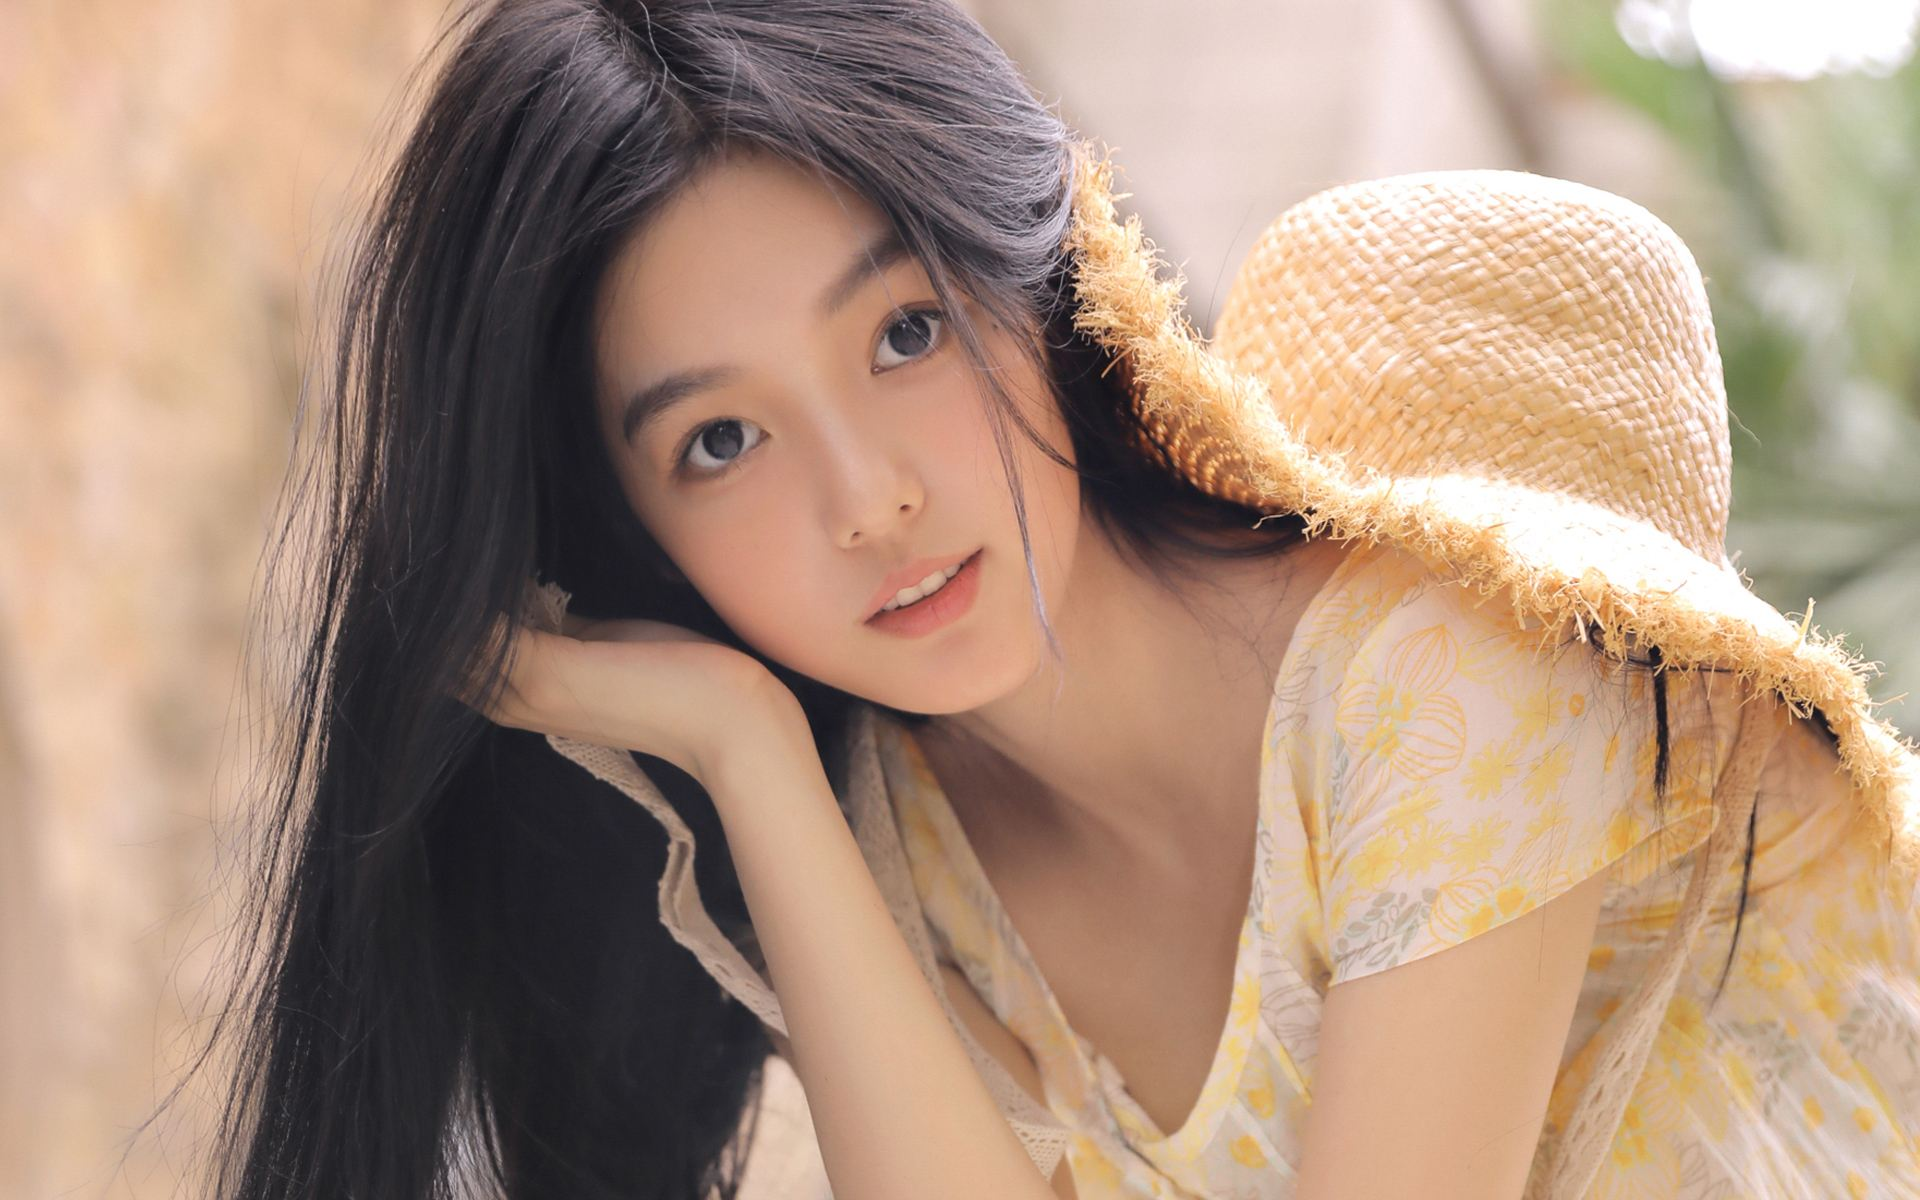person: (270, 51, 1652, 1034)
